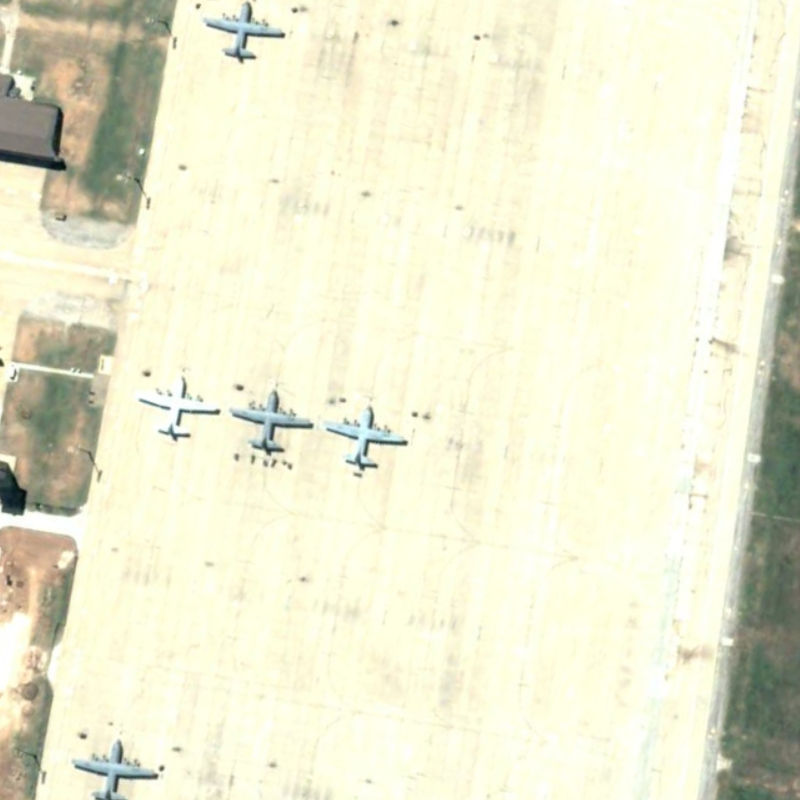A2: (227, 381, 314, 461), (320, 402, 412, 476), (136, 367, 223, 443), (198, 3, 293, 69), (67, 734, 160, 800)
